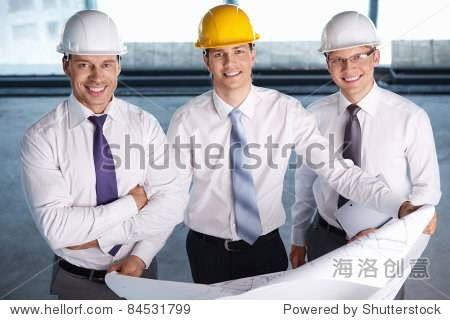white: (57, 10, 127, 107), (318, 10, 383, 96)
yellow: (193, 5, 262, 89)
